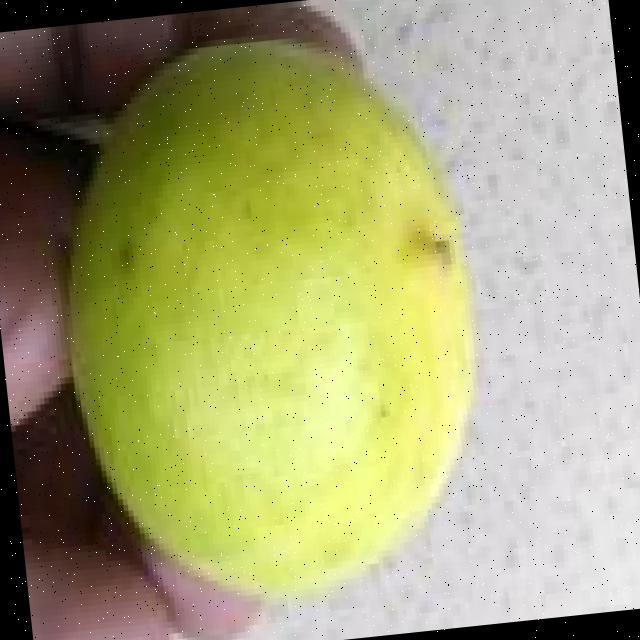Good_Lime-10-21-days: (66, 34, 475, 607)
